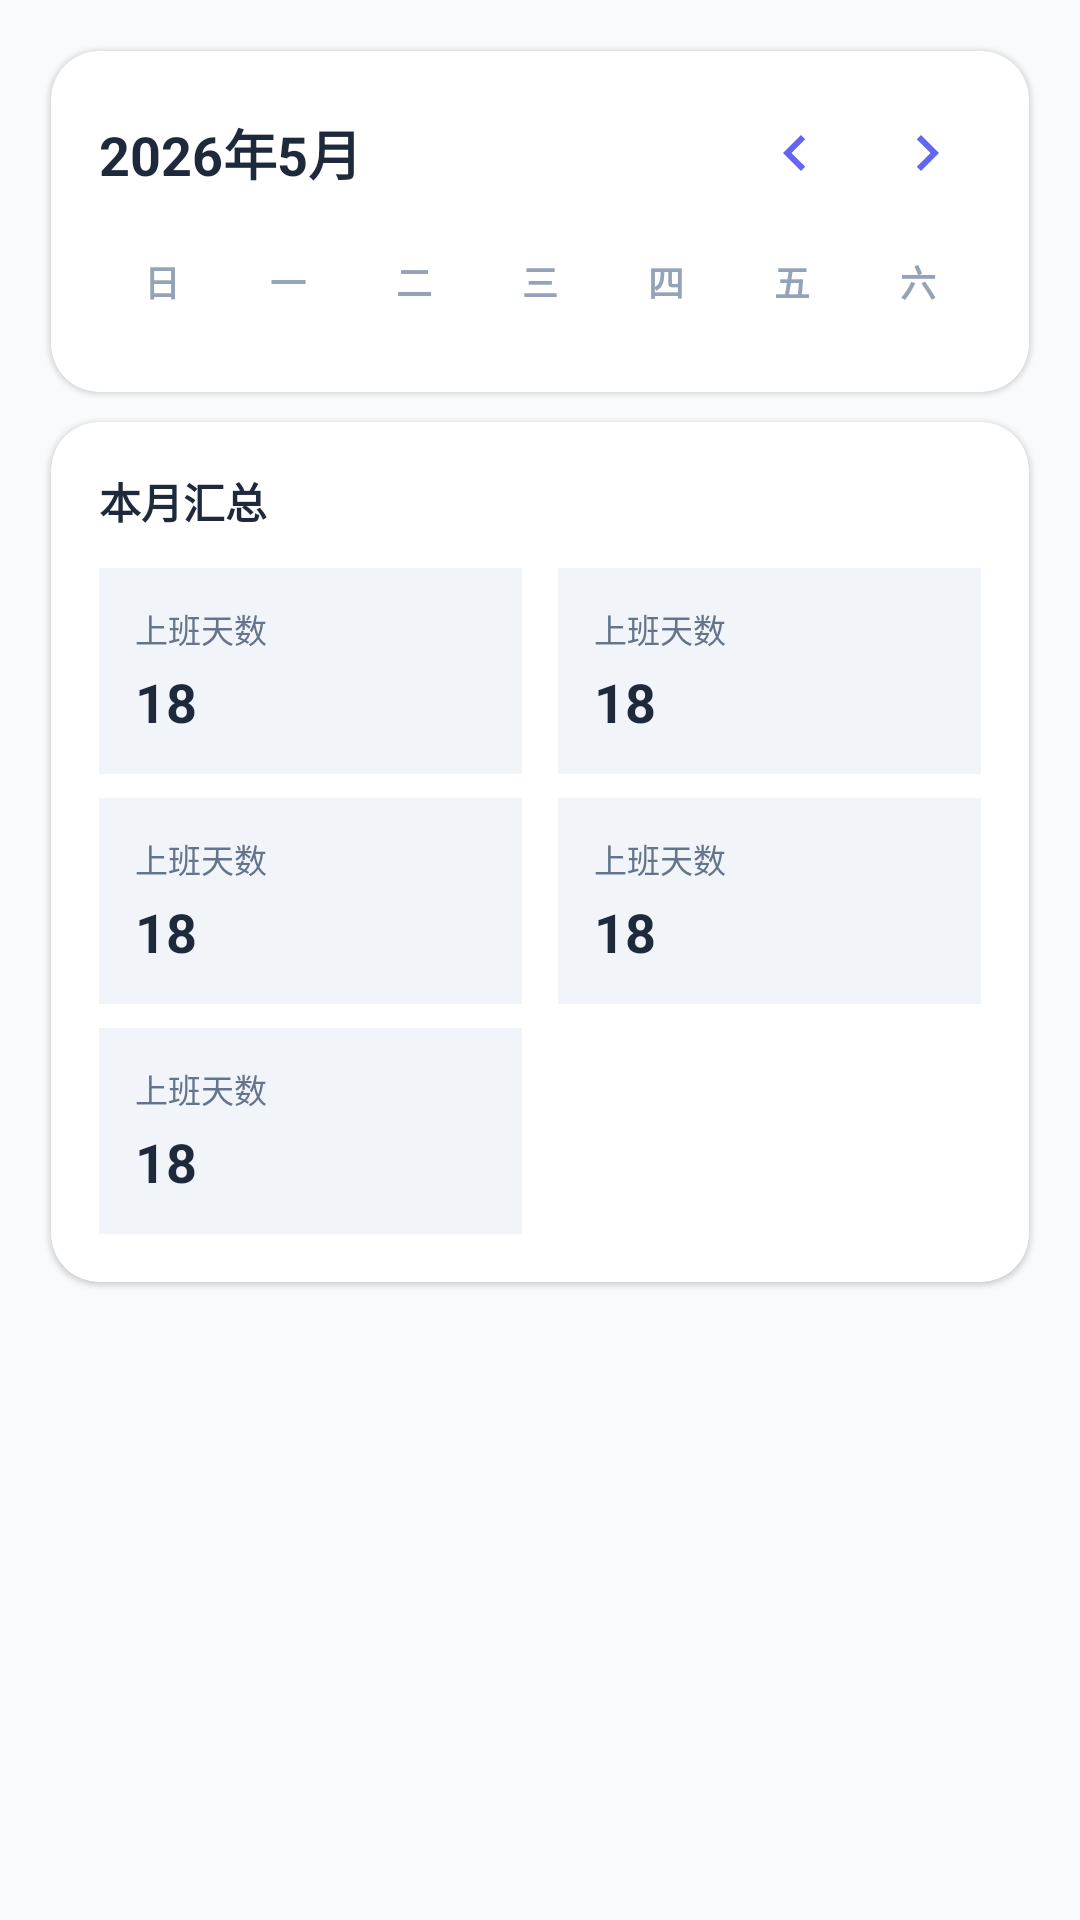

Icons on this 1080x1920 Android screen, each with the point to tap as (x,y):
上个月: (794,153)
下个月: (928,153)
